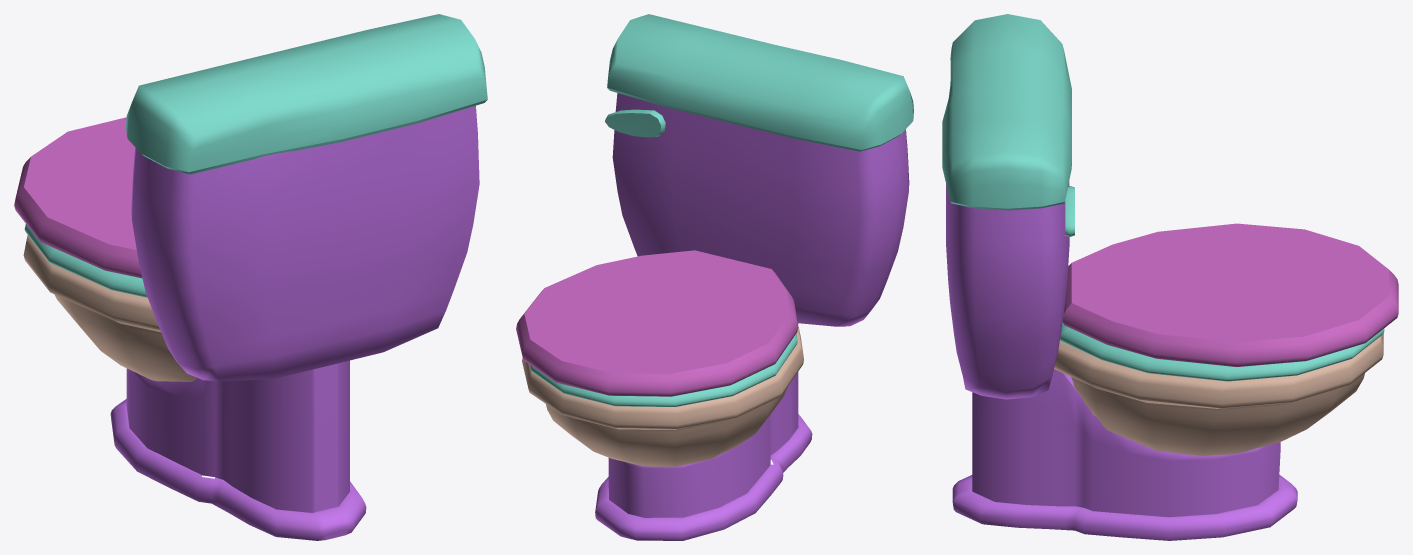
Rendered from Friday_Toilet.fbx.
3 renders of one model, left to right at view 1: azimuth 30°, elevation 25°; view 2: azimuth 150°, elevation 25°; view 3: azimuth 270°, elevation 25°, orthographic. The views are drawn at different scales.
Parts seen in each view (by area): view 1: Toilet, Lid1, Lid, Bowl, Seat; view 2: Toilet, Lid, Lid1, Bowl, Seat, Handle; view 3: Toilet, Lid, Lid1, Bowl, Seat.
Boxes of the visible parts, x1,y1,x2,y2 form: Toilet: [110, 105, 479, 540]; Lid1: [126, 14, 487, 174]; Lid: [14, 117, 142, 278]; Bowl: [23, 235, 196, 381]; Seat: [24, 224, 147, 297]; Toilet: [595, 93, 909, 540]; Lid: [516, 250, 798, 396]; Lid1: [607, 14, 913, 151]; Bowl: [522, 325, 803, 466]; Seat: [530, 334, 797, 406]; Handle: [605, 109, 665, 137]; Toilet: [946, 181, 1297, 540]; Lid: [1062, 223, 1398, 366]; Lid1: [942, 14, 1071, 210]; Bowl: [1054, 333, 1383, 456]; Seat: [1060, 322, 1384, 381].
Size of the model in its own units: 106 by 141 by 138.
